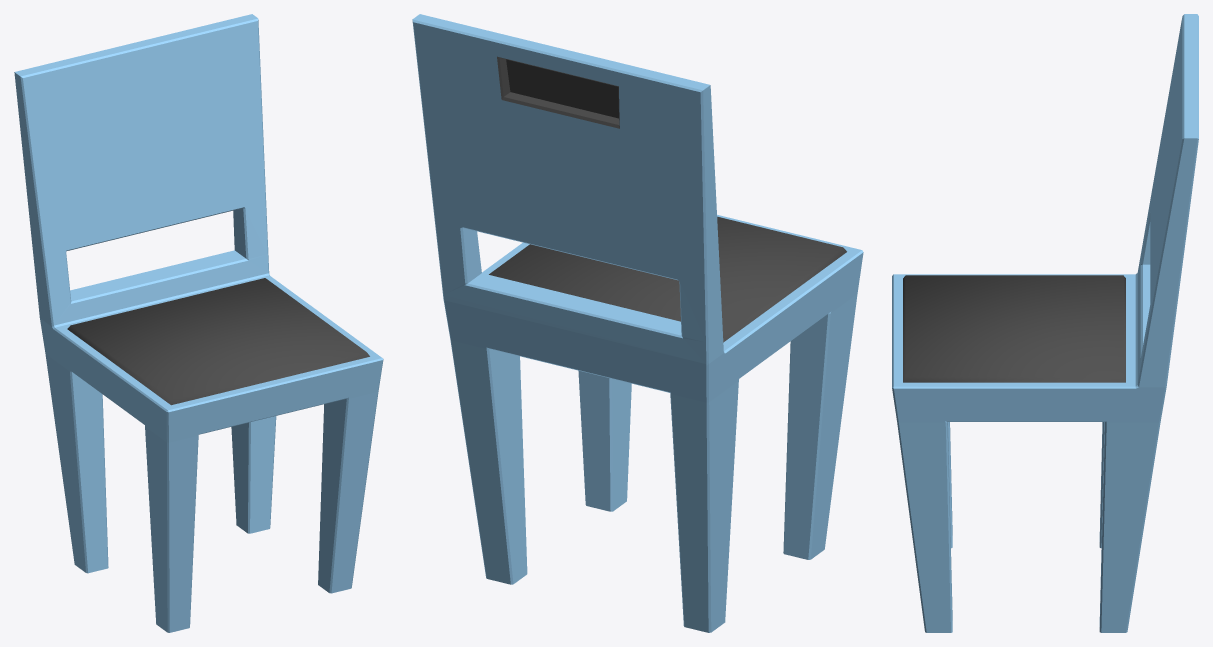
The model's file is Chair_Sk_01.FBX.
3 views of the same model, side by side, from view 1: azimuth 30°, elevation 25°; view 2: azimuth 150°, elevation 25°; view 3: azimuth 270°, elevation 25° (orthographic). The views are drawn at different scales.
Parts seen in each view (by area): view 1: Chair_Sk_01; view 2: Chair_Sk_01; view 3: Chair_Sk_01.
Part boxes in pixels (bbox=[...]): Chair_Sk_01: bbox=[14, 14, 383, 632]; Chair_Sk_01: bbox=[412, 14, 863, 632]; Chair_Sk_01: bbox=[892, 14, 1198, 632].
Bounding box in the file's own units: 0.5255 × 1 × 0.548.
